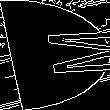M_W: (5, 29, 105, 81)
